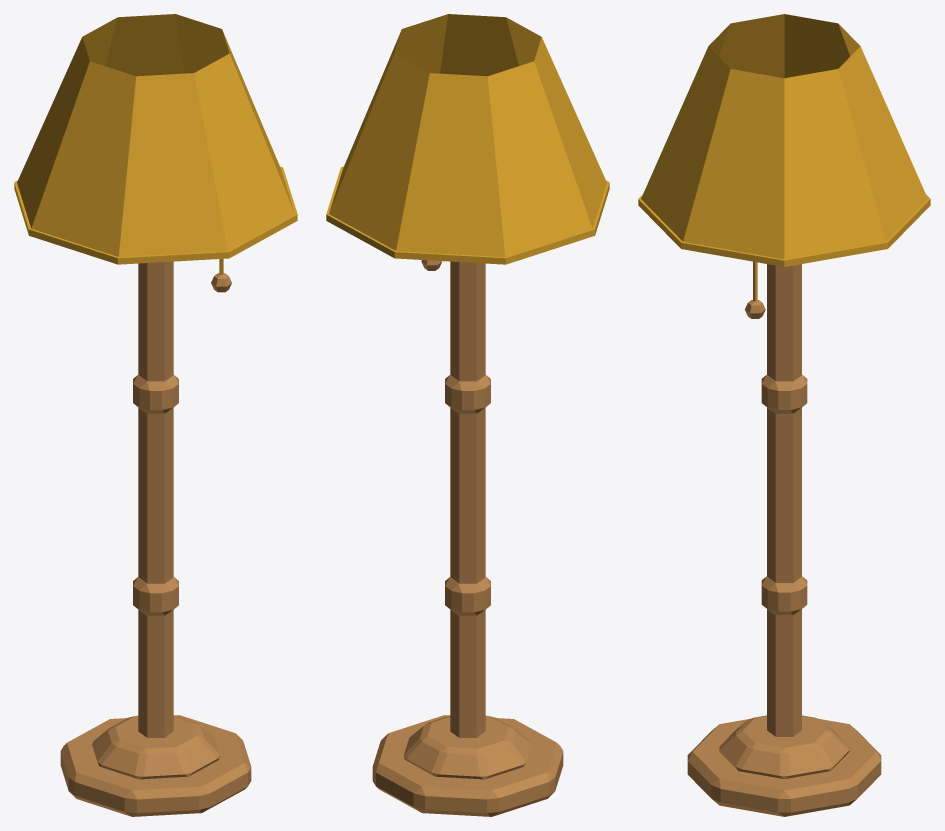
File: floor_lamp.glb
The picture shows the model from 3 angles, left to right: view 1: azimuth 30°, elevation 25°; view 2: azimuth 150°, elevation 25°; view 3: azimuth 270°, elevation 25°; orthographic projection.
Visible parts, largest first — view 1: floor_lamp; view 2: floor_lamp; view 3: floor_lamp.
Part boxes in pixels (bbox=[...]): floor_lamp: bbox=[14, 14, 297, 816]; floor_lamp: bbox=[326, 14, 609, 816]; floor_lamp: bbox=[638, 14, 930, 816].
Bounding box in the file's own units: 0.5 × 1.38 × 0.5.
